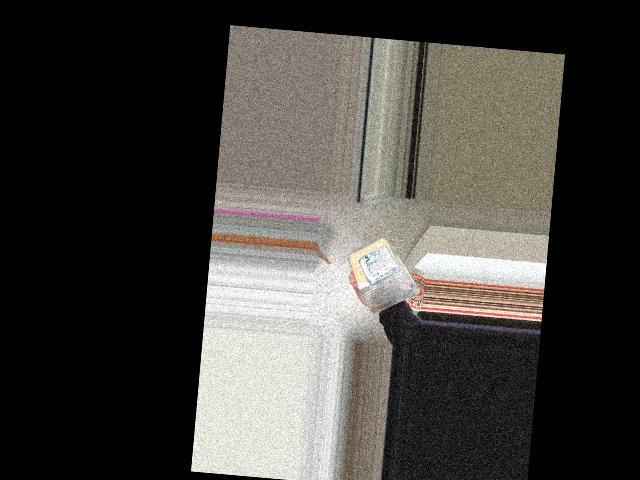cheese: (354, 232, 417, 307)
